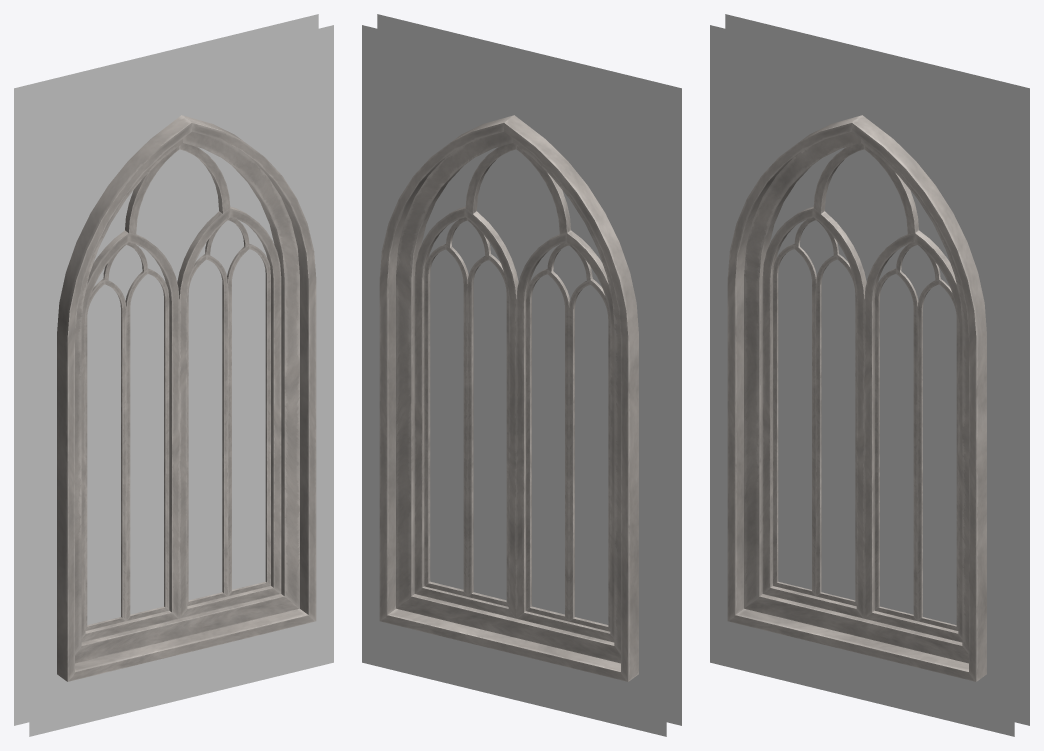
Rendered from Wall_Window_F_B.fbx.
3 views of the same model, side by side, from view 1: azimuth 30°, elevation 25°; view 2: azimuth 150°, elevation 25°; view 3: azimuth 330°, elevation 25° (orthographic).
Parts seen in each view (by area): view 1: Wall_Window_F_B; view 2: Wall_Window_F_B; view 3: Wall_Window_F_B.
Boxes of the visible parts, left/top/right/bottom form: Wall_Window_F_B: left=14, top=14, right=333, bottom=736; Wall_Window_F_B: left=362, top=14, right=681, bottom=736; Wall_Window_F_B: left=710, top=14, right=1029, bottom=736.
Size of the model in its own units: 3 by 0.6115 by 6.
